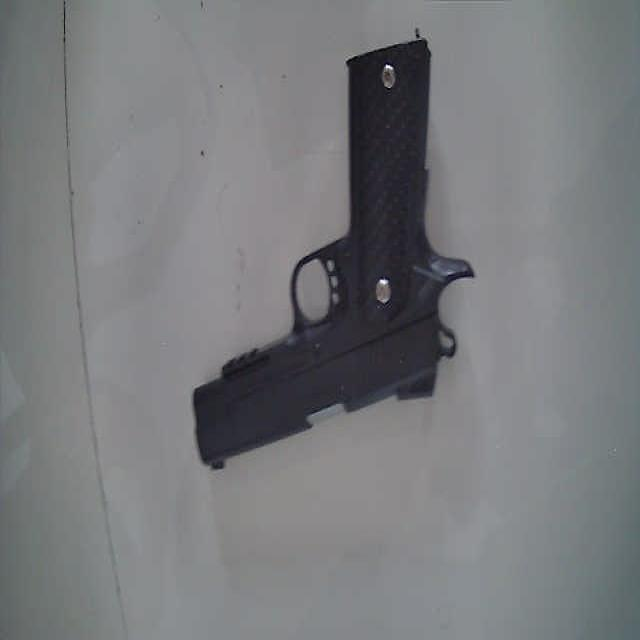pistol: (192, 38, 472, 490)
